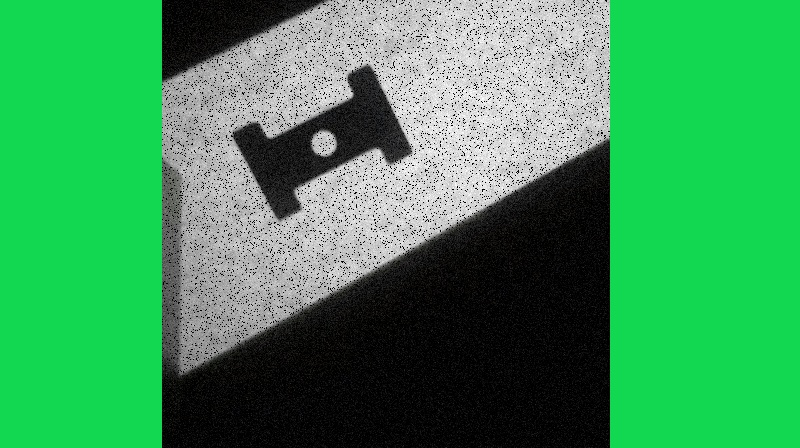O002: (228, 61, 415, 224)
